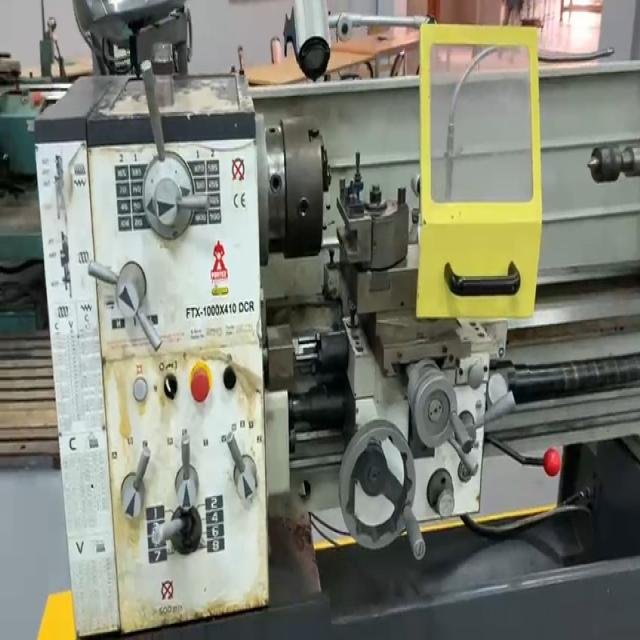tour parallele: (32, 0, 640, 640)
